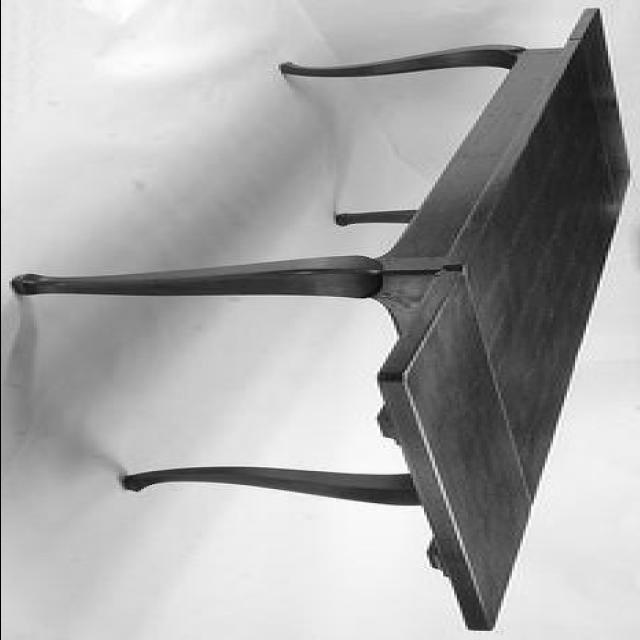table: (10, 8, 628, 630)
